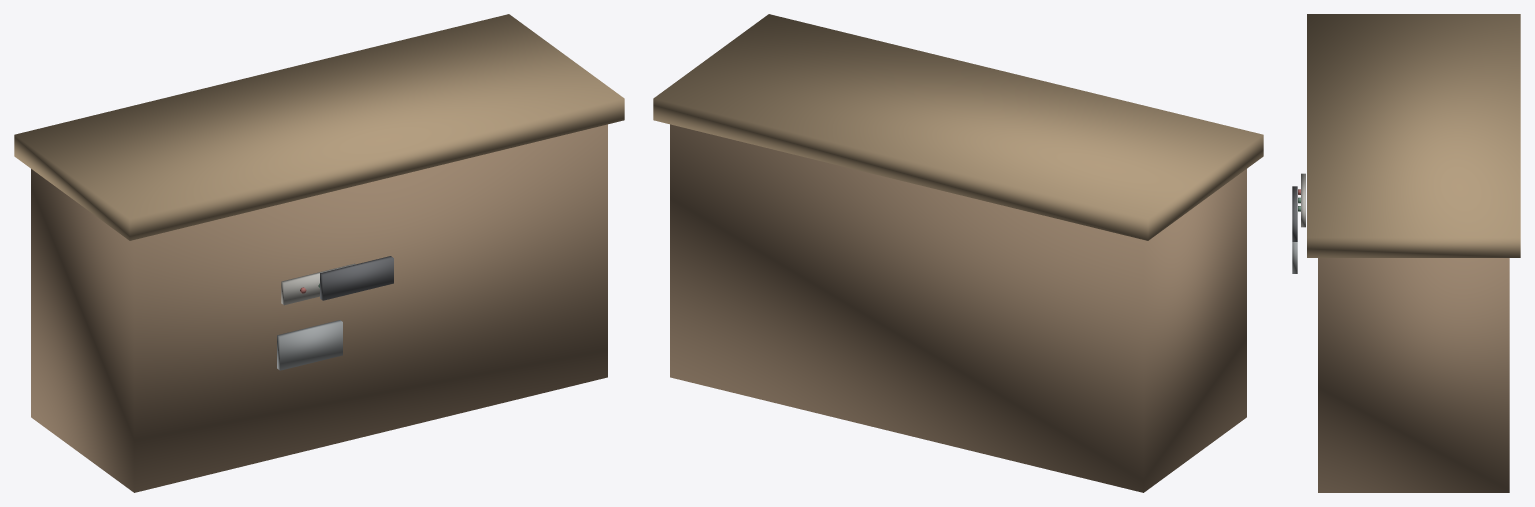
The model's file is clinic_reception_counter__weathered.glb.
The picture shows the model from 3 angles, left to right: view 1: azimuth 30°, elevation 25°; view 2: azimuth 150°, elevation 25°; view 3: azimuth 270°, elevation 25°; orthographic projection. The views are drawn at different scales.
Parts seen in each view (by area): view 1: world; view 2: world; view 3: world.
Boxes of the visible parts, left/top/right/bottom form: world: left=14, top=14, right=624, bottom=492; world: left=653, top=14, right=1263, bottom=492; world: left=1292, top=14, right=1520, bottom=492.
Size of the model in its own units: 1.88 by 1.02 by 0.812.
